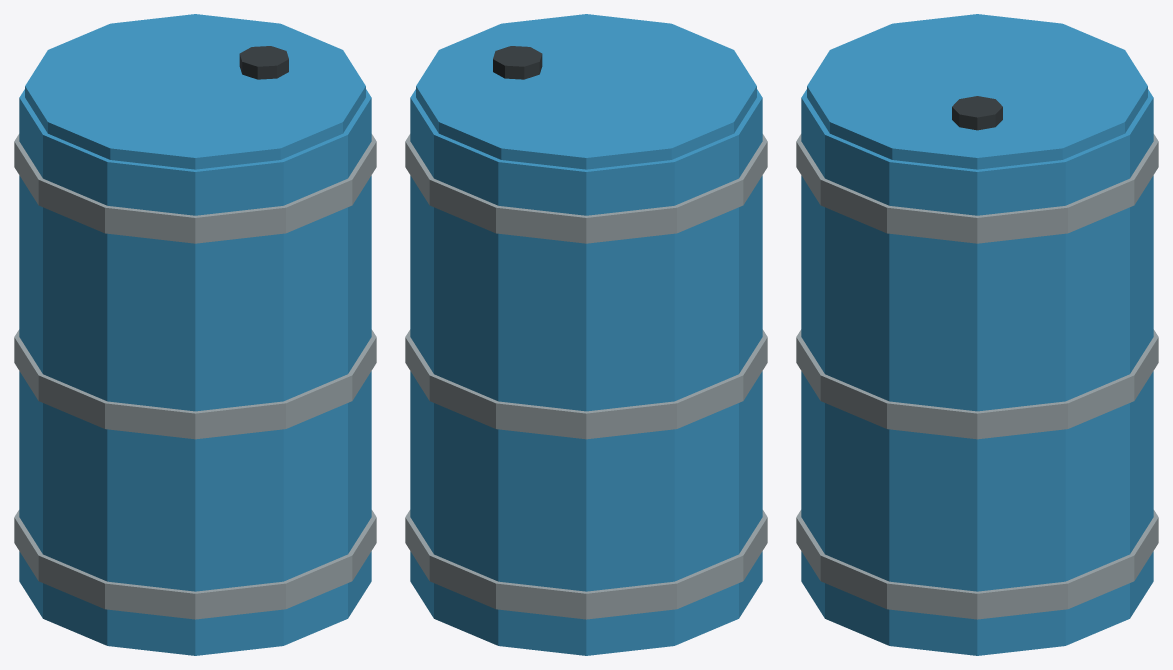
The model's file is TR3_WaterBarrel_blue.glb.
3 views of the same model, side by side, from view 1: azimuth 30°, elevation 25°; view 2: azimuth 150°, elevation 25°; view 3: azimuth 270°, elevation 25° (orthographic).
Visible parts, largest first — view 1: TR3_WaterBarrel_blue; view 2: TR3_WaterBarrel_blue; view 3: TR3_WaterBarrel_blue.
Part boxes in pixels (<box>): TR3_WaterBarrel_blue: <box>14,14,376,655</box>; TR3_WaterBarrel_blue: <box>405,14,767,655</box>; TR3_WaterBarrel_blue: <box>796,14,1158,655</box>.
Size of the model in its own units: 0.638 by 0.9875 by 0.638.
